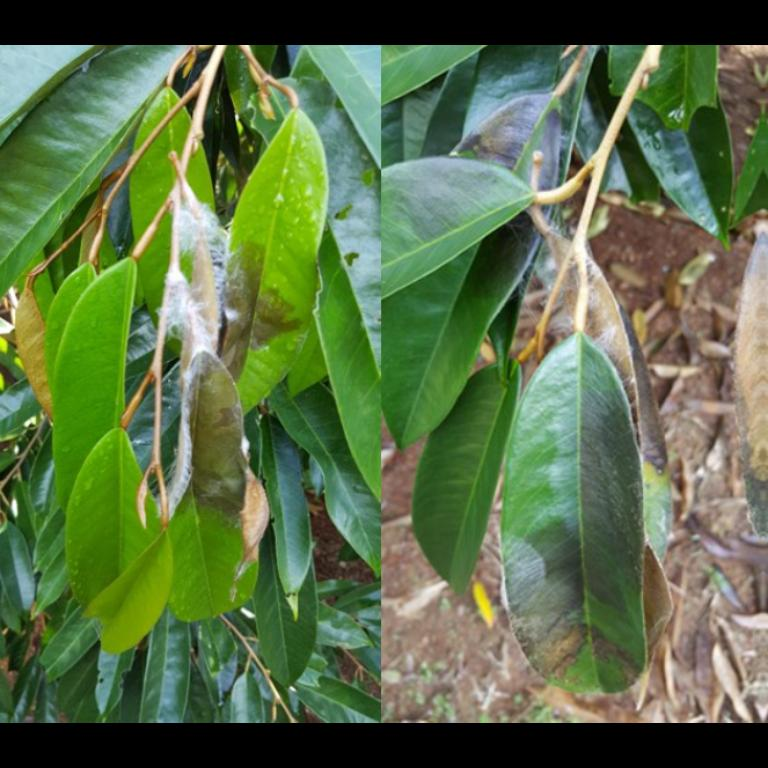blight: (217, 232, 309, 385)
